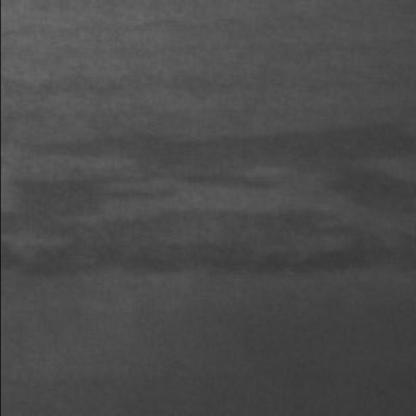inclusion: (2, 127, 416, 275)
